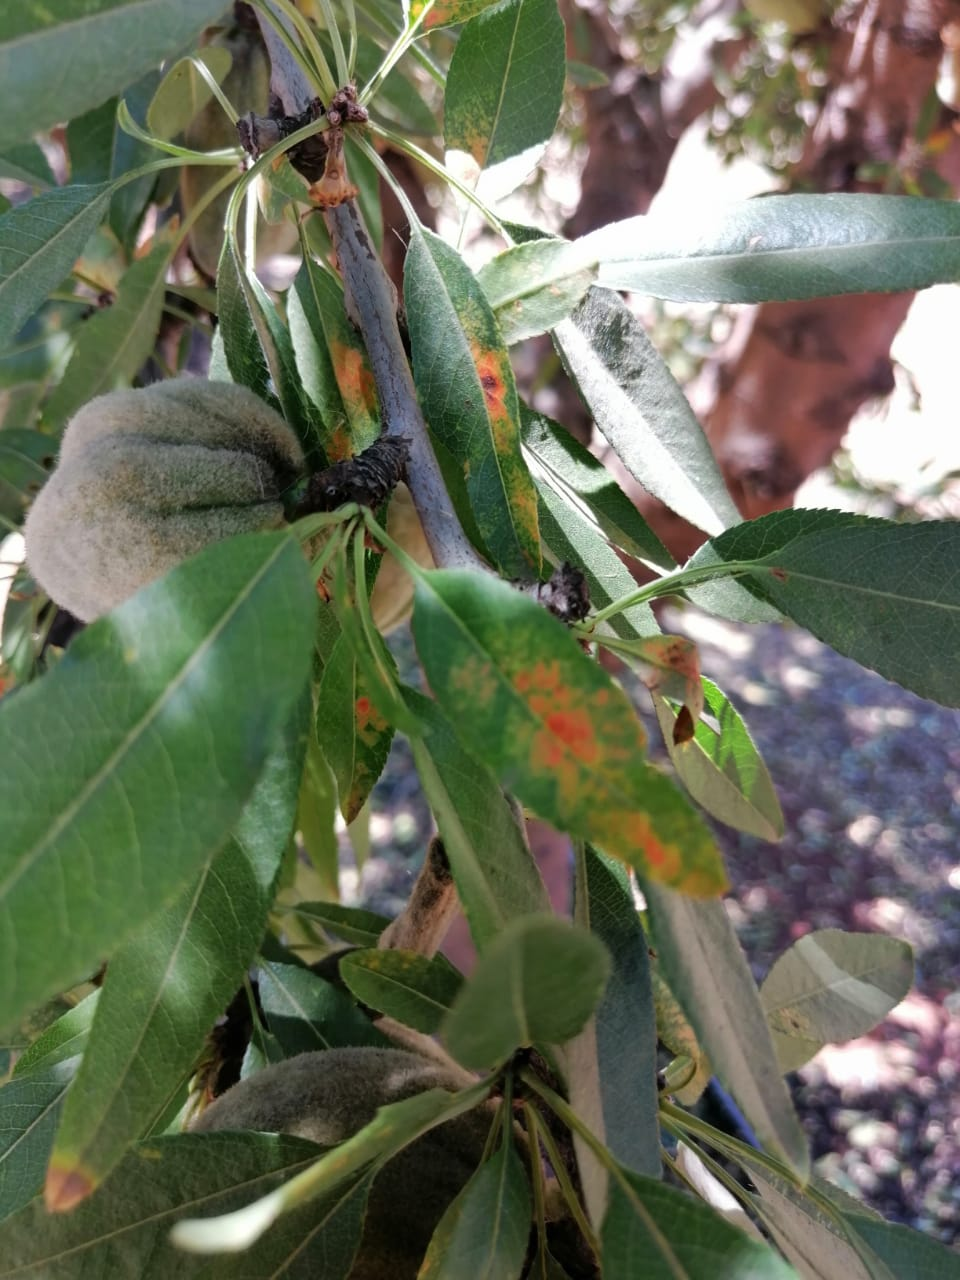polystigma: (411, 564, 736, 899), (399, 222, 548, 592), (286, 256, 387, 463), (317, 626, 399, 823)
